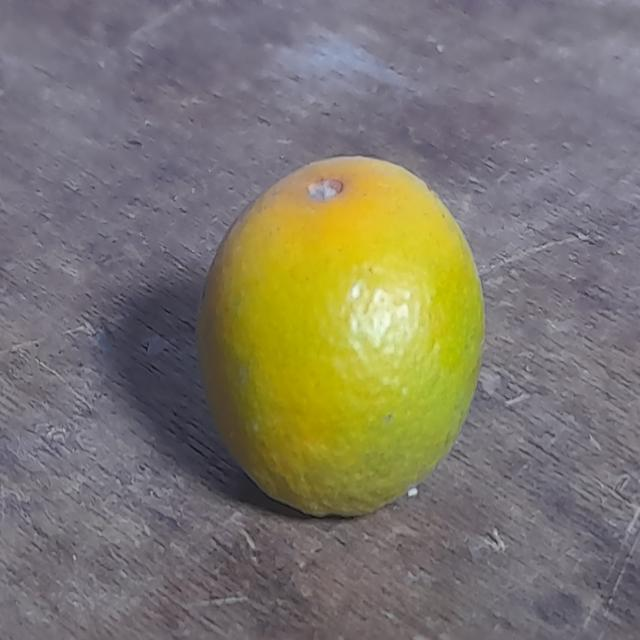greening: (200, 147, 484, 514)
